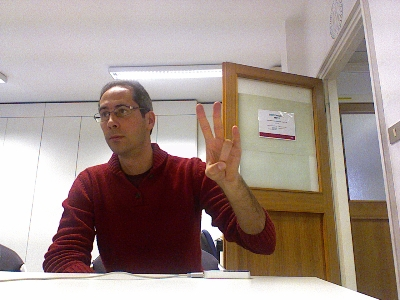观音: (193, 101, 242, 184)
